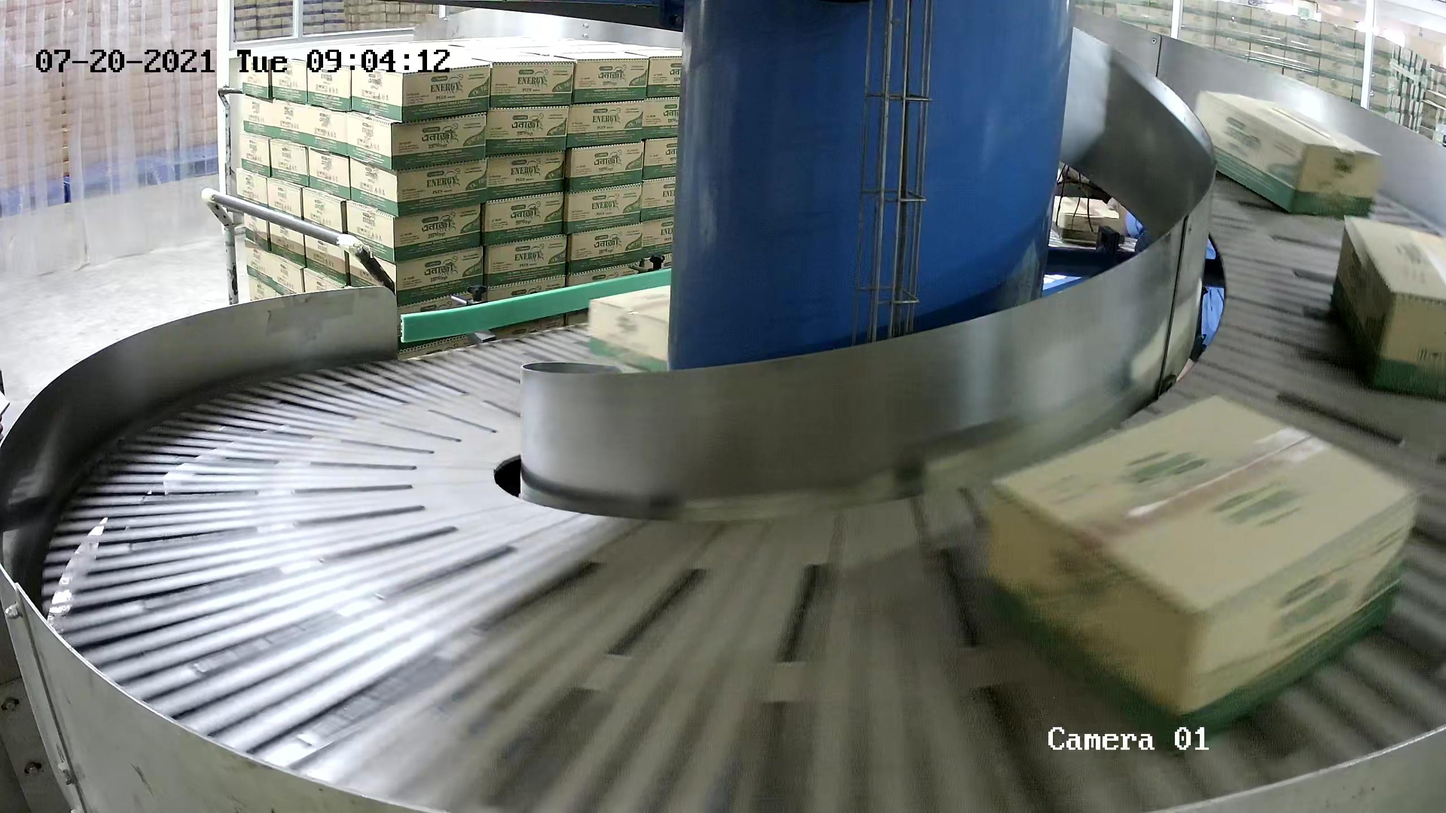Box: (981, 390, 1429, 751), (1184, 90, 1385, 221), (588, 261, 781, 383), (1329, 214, 1446, 408)
